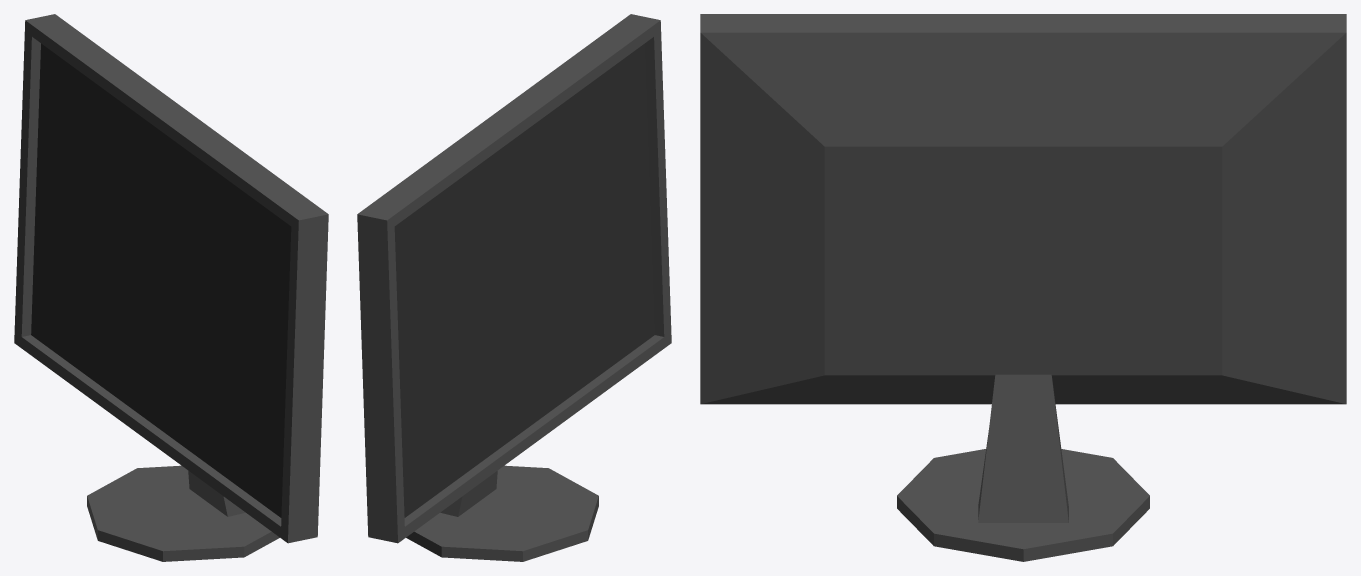
Rendered from Monitor.fbx.
The picture shows the model from 3 angles, left to right: view 1: azimuth 30°, elevation 25°; view 2: azimuth 150°, elevation 25°; view 3: azimuth 270°, elevation 25°; orthographic projection. The views are drawn at different scales.
Visible parts, largest first — view 1: Monitor; view 2: Monitor; view 3: Monitor.
Boxes of the visible parts, left/top/right/bottom form: Monitor: left=14, top=14, right=328, bottom=561; Monitor: left=357, top=14, right=671, bottom=561; Monitor: left=700, top=14, right=1346, bottom=561.
Size of the model in its own units: 39.38 by 82.03 by 100.
